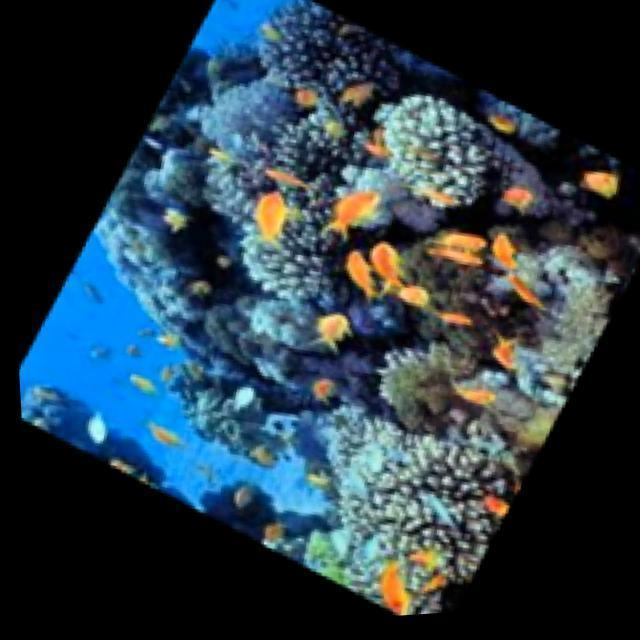Dead Coral: (187, 0, 396, 281)
